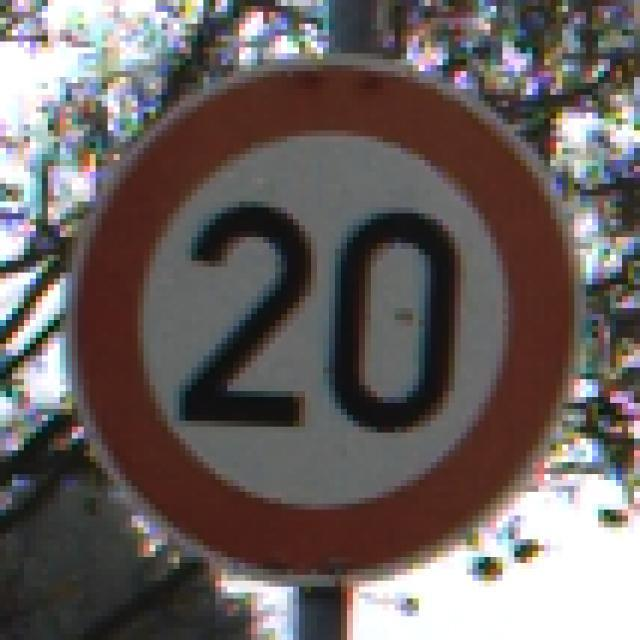speed limit 20: (68, 54, 581, 584)
